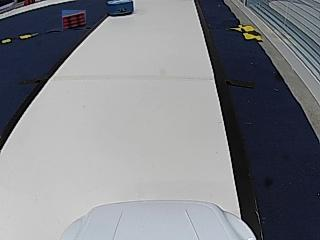prop: (107, 0, 133, 16)
